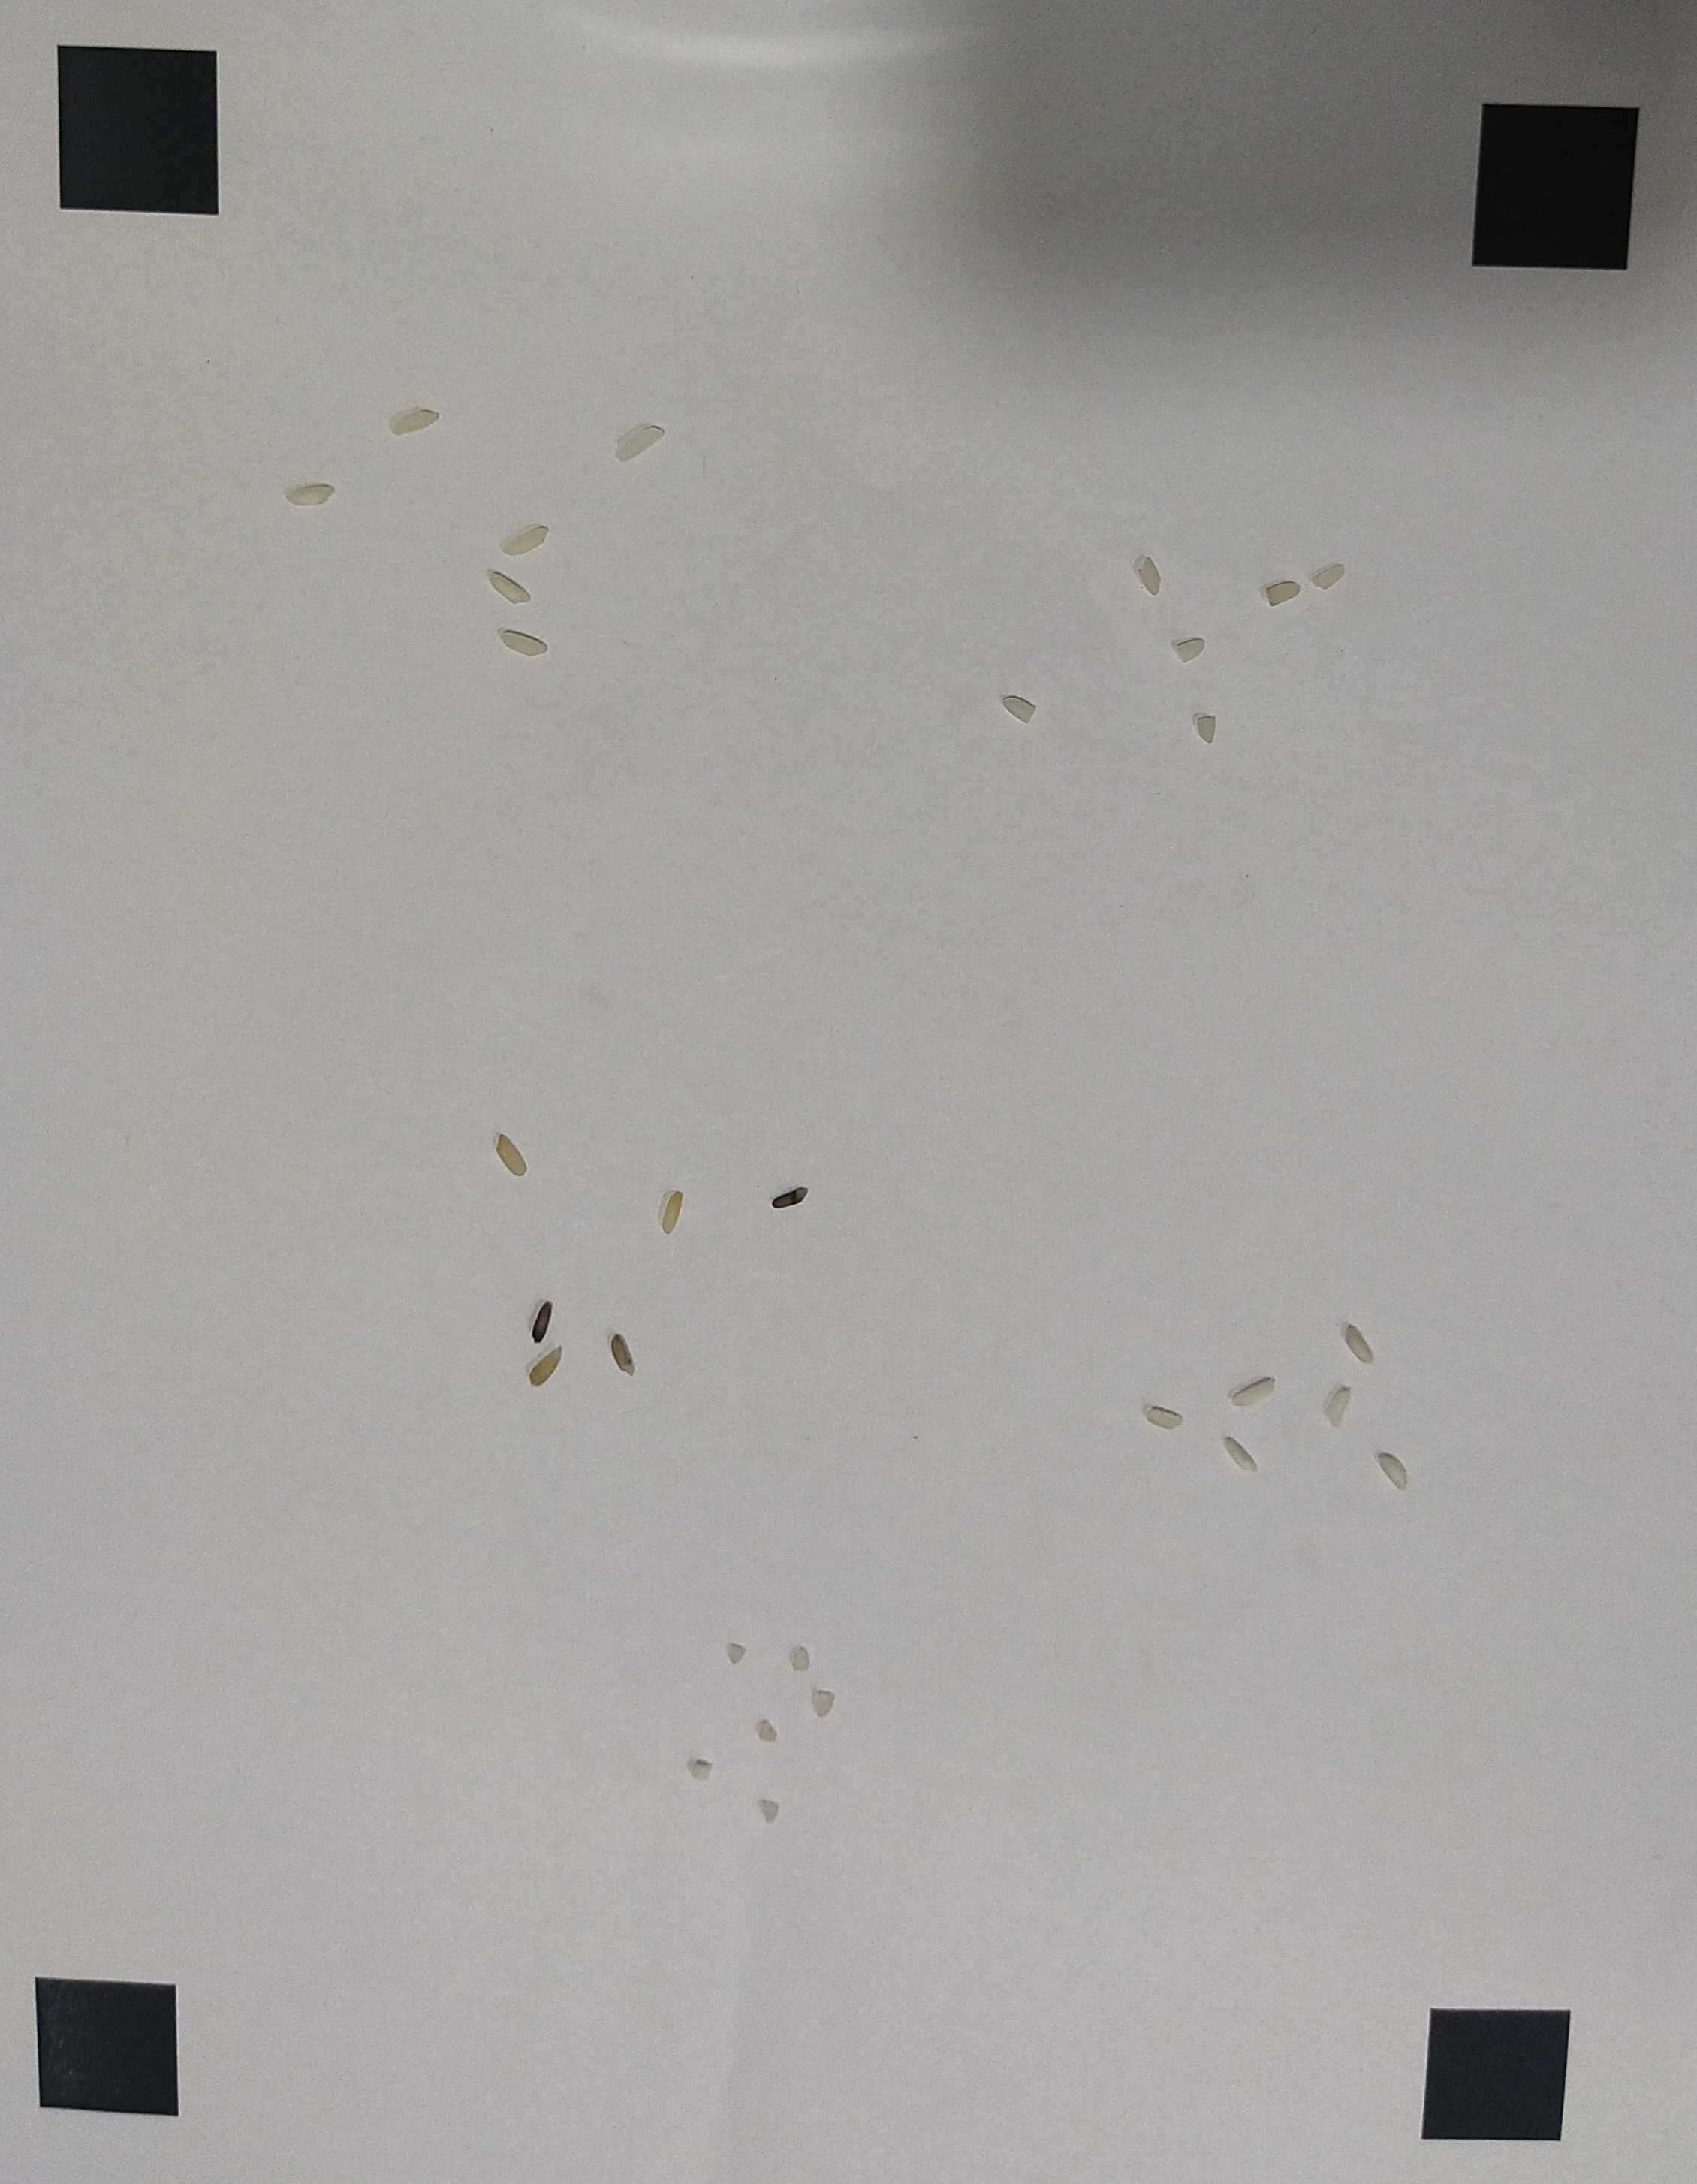broken: (755, 1798, 782, 1821), (814, 1688, 837, 1714), (791, 1643, 812, 1670), (688, 1757, 711, 1778), (755, 1716, 775, 1741), (727, 1643, 747, 1666)
chalky: (1229, 1376, 1277, 1408), (1374, 1452, 1410, 1491), (1224, 1436, 1259, 1473), (1344, 1322, 1374, 1363), (1321, 1386, 1351, 1425), (1144, 1406, 1185, 1429)
damage: (1266, 578, 1302, 608), (1000, 695, 1037, 723), (1137, 553, 1161, 596), (1314, 562, 1346, 590), (1197, 713, 1218, 746), (1176, 636, 1206, 659)
discolor: (495, 1133, 530, 1175), (528, 1347, 562, 1384), (610, 1331, 637, 1376), (528, 1301, 555, 1342), (770, 1184, 809, 1211), (661, 1189, 683, 1232)
good: (614, 424, 665, 463), (488, 569, 532, 604), (502, 525, 548, 557), (502, 629, 548, 656), (390, 409, 440, 433), (285, 484, 333, 507)
